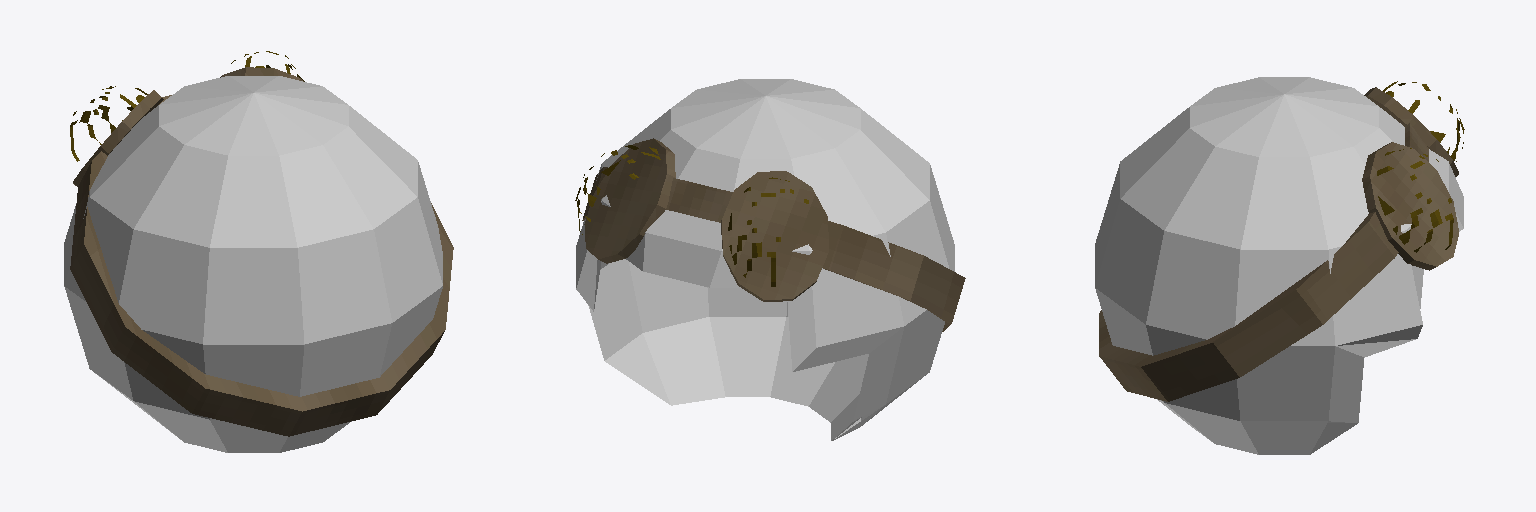
3 views of the same model, side by side, from view 1: azimuth 30°, elevation 25°; view 2: azimuth 150°, elevation 25°; view 3: azimuth 270°, elevation 25° (orthographic).
Parts seen in each view (by area): view 1: sphere, cylinder, Lens; view 2: sphere, cylinder, Lens; view 3: sphere, cylinder, Lens.
Boxes of the visible parts, x1=… form: sphere: x1=64, y1=76, x2=442, y2=452; cylinder: x1=70, y1=67, x2=453, y2=436; Lens: x1=70, y1=51, x2=304, y2=161; sphere: x1=576, y1=79, x2=954, y2=440; cylinder: x1=582, y1=138, x2=965, y2=331; Lens: x1=575, y1=145, x2=808, y2=286; sphere: x1=1095, y1=77, x2=1463, y2=454; cylinder: x1=1099, y1=87, x2=1458, y2=401; Lens: x1=1377, y1=81, x2=1464, y2=252.
Bounding box in the file's own units: 1 × 0.9414 × 0.9763.
3 materials, 2 textured.